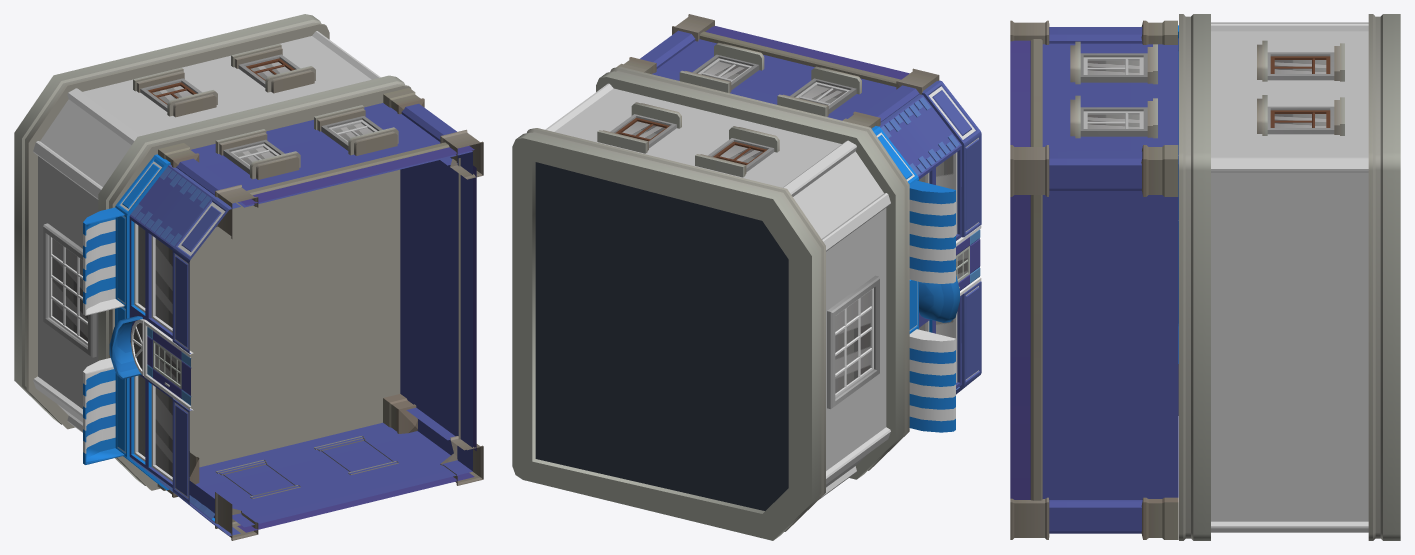
The model's file is Building_3_2_D.fbx.
The picture shows the model from 3 angles, left to right: view 1: azimuth 30°, elevation 25°; view 2: azimuth 150°, elevation 25°; view 3: azimuth 270°, elevation 25°; orthographic projection. The views are drawn at different scales.
Visible parts, largest first — view 1: Building 3_2_D; view 2: Building 3_2_D; view 3: Building 3_2_D.
Part boxes in pixels (x1=…): Building 3_2_D: x1=14, y1=14, x2=483, y2=540; Building 3_2_D: x1=512, y1=14, x2=981, y2=540; Building 3_2_D: x1=1010, y1=14, x2=1400, y2=540.
Bounding box in the file's own units: 820 × 816 × 726.
